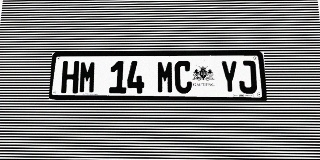1: (109, 61, 127, 93)
4: (127, 61, 145, 93)
C: (175, 61, 192, 93)
H: (61, 61, 79, 93)
J: (238, 60, 257, 93)
M: (78, 61, 97, 93), (157, 61, 174, 93)
Y: (220, 61, 239, 93)
